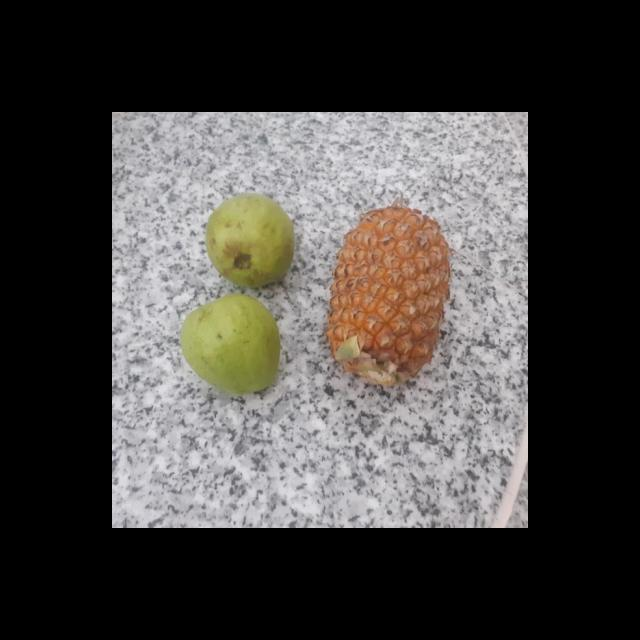guava: (174, 296, 280, 396), (201, 195, 295, 288)
pineapple: (325, 205, 450, 388)
